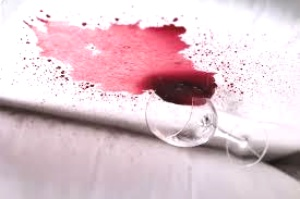wine: (39, 11, 215, 91)
